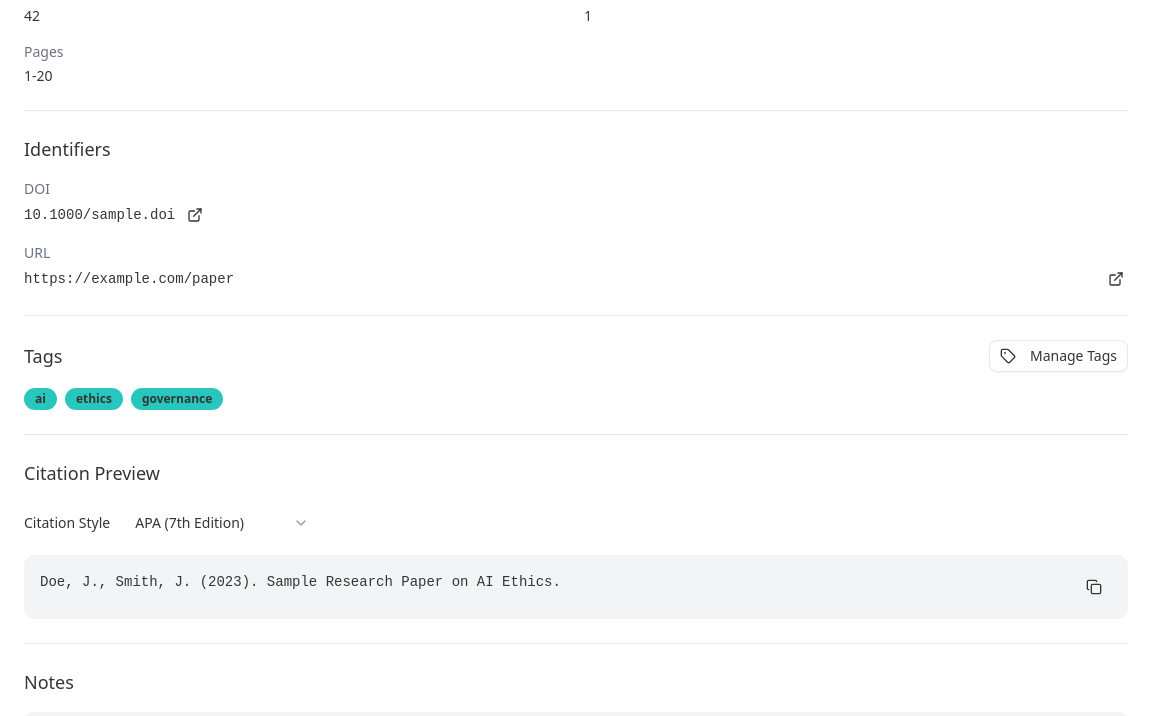
Test: ReferenceDetail › Tag Management › should enter tag editing mode
(page scrolled)
Click the button "Manage Tags". click: [1058, 356]
box: left=989, top=340, right=1128, bottom=372
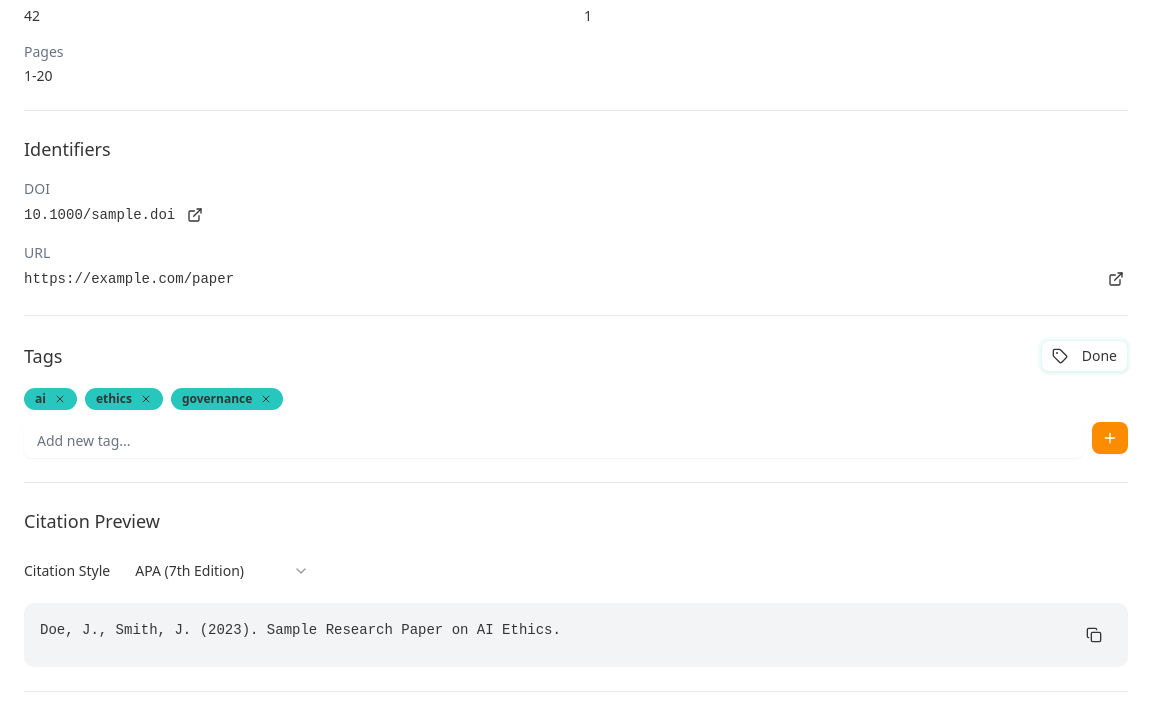
Now the button "Done" is shown, box left=1041, top=340, right=1128, bottom=372
Now the field with placeholder "Add new tag..." is shown, box left=24, top=422, right=1084, bottom=458
